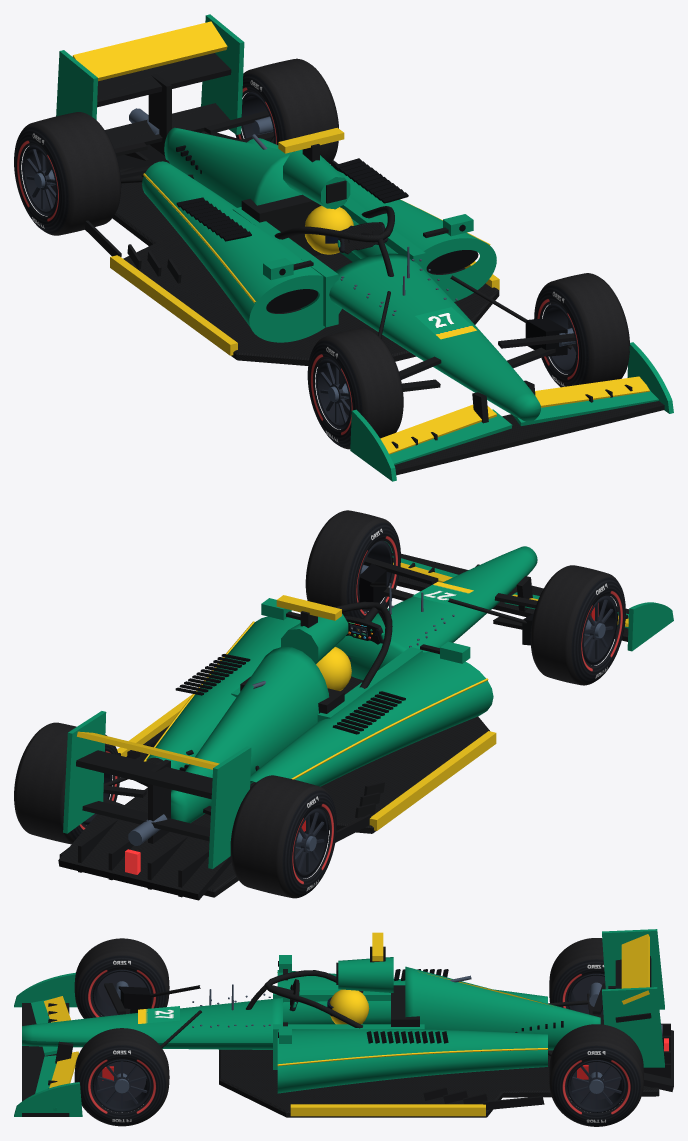
Rendered from pilot-v8.glb.
3 renders of one model, top to bottom at view 1: azimuth 30°, elevation 25°; view 2: azimuth 150°, elevation 25°; view 3: azimuth 270°, elevation 25°, orthographic. The views are drawn at different scales.
Visible parts, largest first — view 1: Part_064, Part_006, Part_002, Part_116, Part_091, Part_100, Part_108, RearFlap, Part_048, pilot-intakes-and-vents, Part_057, Part_117 (+31 smaller); view 2: Part_064, Part_006, Part_005, Part_002, Part_116, Part_108, Part_100, Part_091, pilot-intakes-and-vents, Part_059, Part_060, Part_057 (+24 smaller); view 3: Part_064, Part_002, Part_006, Part_109, Part_092, Part_060, Part_108, Part_004, pilot-carbon-hardware, Part_091, Part_101, Part_100 (+34 smaller).
Part boxes in pixels (x1,y1,x2,y2): Part_064: (142, 127, 496, 342); Part_006: (329, 253, 540, 421); Part_002: (112, 176, 499, 366); Part_116: (20, 112, 120, 235); Part_091: (540, 273, 629, 383); Part_100: (314, 328, 403, 449); Part_108: (241, 58, 338, 164); RearFlap: (72, 21, 227, 81); Part_048: (394, 401, 664, 475); pilot-intakes-and-vents: (176, 145, 567, 356); Part_057: (97, 53, 231, 107); Part_117: (14, 119, 121, 233); Part_064: (145, 616, 493, 823); Part_006: (335, 546, 537, 680); Part_005: (58, 814, 231, 900); Part_002: (59, 676, 489, 897); Part_116: (230, 775, 329, 898); Part_108: (14, 722, 113, 844); Part_100: (530, 565, 618, 685); Part_091: (306, 510, 393, 616); pilot-intakes-and-vents: (175, 563, 533, 771); Part_059: (208, 746, 251, 868); Part_060: (63, 711, 106, 833); Part_057: (76, 750, 212, 799); Part_064: (277, 966, 600, 1093); Part_002: (219, 1049, 659, 1117); Part_006: (22, 998, 282, 1049); Part_109: (552, 1045, 640, 1125); Part_092: (78, 1045, 166, 1125); Part_060: (602, 987, 664, 1067); Part_108: (549, 1024, 643, 1126); Part_004: (290, 1104, 485, 1116); pilot-carbon-hardware: (48, 985, 589, 1109); Part_091: (74, 1028, 169, 1126); Part_101: (77, 955, 166, 1018); Part_100: (74, 938, 169, 1018).
Size of the model in its own units: 2.01 by 1.1 by 5.01.
33 materials, 5 textured.
